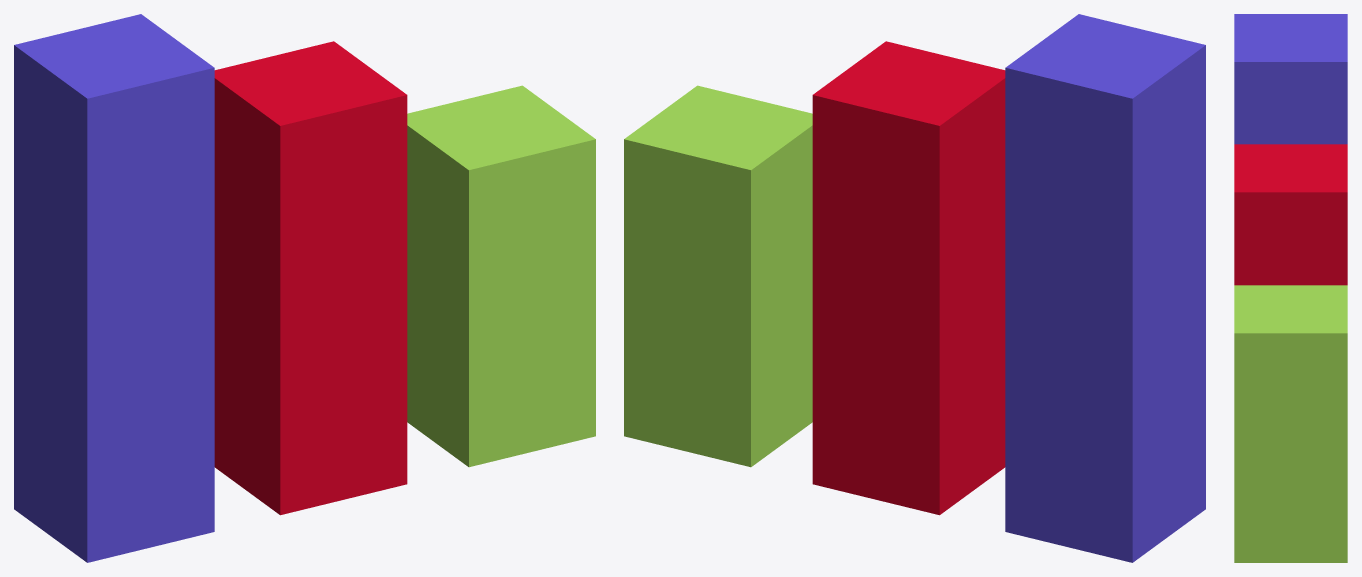
File: chart01.glb
The picture shows the model from 3 angles, left to right: view 1: azimuth 30°, elevation 25°; view 2: azimuth 150°, elevation 25°; view 3: azimuth 270°, elevation 25°; orthographic projection. The views are drawn at different scales.
Visible parts, largest first — view 1: Cube.002, Cube, Cube.001; view 2: Cube.002, Cube, Cube.001; view 3: Cube.001, Cube, Cube.002.
Part boxes in pixels (<box>): Cube.002: <box>14,14,214,562</box>; Cube: <box>214,41,407,515</box>; Cube.001: <box>407,85,595,467</box>; Cube.002: <box>1005,14,1205,562</box>; Cube: <box>812,41,1005,515</box>; Cube.001: <box>624,85,812,467</box>; Cube.001: <box>1234,285,1347,562</box>; Cube: <box>1234,144,1347,285</box>; Cube.002: <box>1234,14,1347,144</box>.
Size of the model in its own units: 8 by 6.98 by 2.
